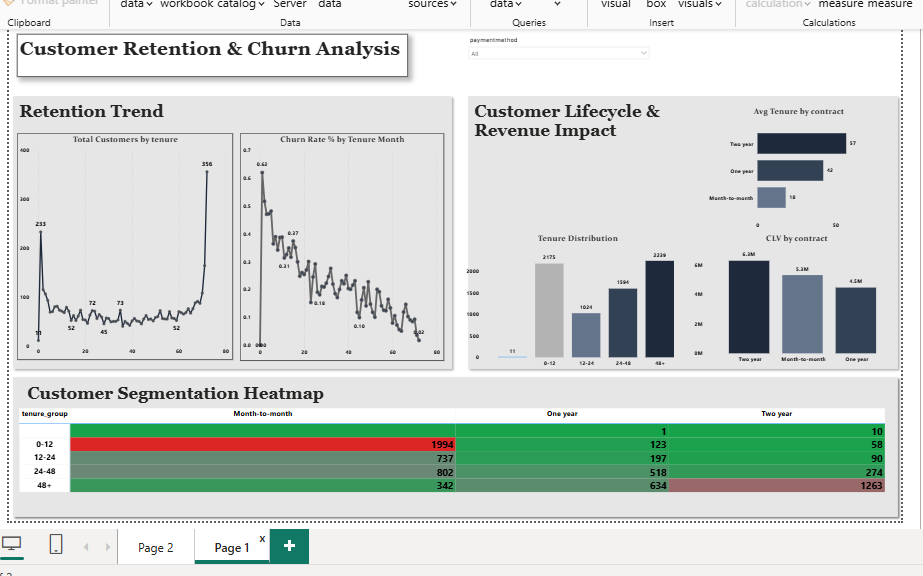

Layout of this report page (visuals, bound fields, positions):
{"tool":"powerbi","page":{"name":"Retention & Customer Lifecycle","canvas":[1960,1080],"ordinal":1},"visuals":[{"type":"shape","box":[0,755.1,1960.2,324.9],"z":1001},{"type":"pivotTable","fields":{"Rows":["telco_cleaned.tenure_group"],"Columns":["telco_cleaned.contract"],"Values":["Dax Measures.Customer Count"]},"box":[17.6,827.6,1920.7,219.5],"z":1003},{"type":"shape","box":[0,138.3,981.2,616.8],"z":1004},{"type":"shape","box":[998.8,138.3,961.5,616.8],"z":1005},{"type":"lineChart","fields":{"Y":["Dax Measures.Total Customers"],"Category":["telco_cleaned.tenure"]},"box":[17.6,228.3,474.1,498.3],"z":1006},{"type":"lineChart","fields":{"Category":["telco_cleaned.Tenure Month"],"Y":["Dax Measures.Churn Rate %"]},"box":[507.1,228.3,447.8,500.5],"z":1007},{"type":"clusteredColumnChart","title":"Tenure Distribution","fields":{"Category":["telco_cleaned.tenure_group"],"Y":["Dax Measures.Total Customers"]},"box":[998.8,447.8,500.5,302.9],"z":1008},{"type":"barChart","fields":{"Category":["telco_cleaned.contract"],"Y":["Dax Measures.Avg Tenure"]},"box":[1530,169,408.3,278.8],"z":1009},{"type":"columnChart","fields":{"Category":["telco_cleaned.contract"],"Y":["Dax Measures.CLV"]},"box":[1499.3,447.8,461,294.1],"z":1010},{"type":"textbox","box":[17.6,153.7,513.7,90],"z":1011},{"type":"textbox","box":[1016.3,153.7,513.7,153.7],"z":1012},{"type":"textbox","box":[35.1,772.7,777.1,54.9],"z":1013},{"type":"textbox","box":[17.6,11,858.3,94.4],"z":1014},{"type":"slicer","fields":{"Values":["telco_cleaned.paymentmethod"]},"box":[998.8,11,417.1,122.9],"z":1015}]}

Visuals, with their boxes on the page's 1960x1080 design canvas (x1, y1, x2, y2). These are canvas units, not pixel positions in the 923x576 screenshot, which may show the page scaled, cropped or inside an application window:
shape: (0, 755, 1960, 1080)
pivotTable - telco_cleaned.tenure_group x telco_cleaned.contract: (18, 828, 1938, 1047)
shape: (0, 138, 981, 755)
shape: (999, 138, 1960, 755)
lineChart - Dax Measures.Total Customers x telco_cleaned.tenure: (18, 228, 492, 727)
lineChart - telco_cleaned.Tenure Month x Dax Measures.Churn Rate %: (507, 228, 955, 729)
"Tenure Distribution" clusteredColumnChart: (999, 448, 1499, 751)
barChart - telco_cleaned.contract x Dax Measures.Avg Tenure: (1530, 169, 1938, 448)
columnChart - telco_cleaned.contract x Dax Measures.CLV: (1499, 448, 1960, 742)
textbox: (18, 154, 531, 244)
textbox: (1016, 154, 1530, 307)
textbox: (35, 773, 812, 828)
textbox: (18, 11, 876, 105)
slicer - telco_cleaned.paymentmethod: (999, 11, 1416, 134)
